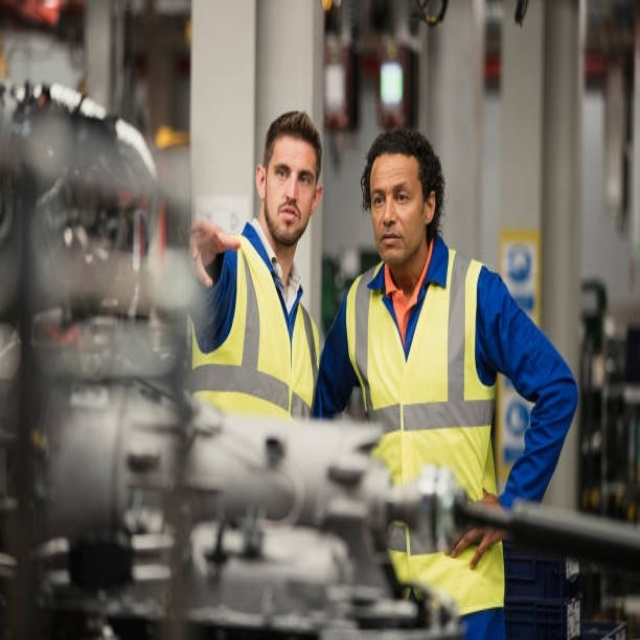Sin_gafas: (270, 152, 320, 191), (373, 171, 415, 209)
Sin_guantes: (441, 485, 507, 567), (190, 210, 242, 295)
Sin_mascara: (376, 224, 404, 262), (273, 198, 299, 232)
